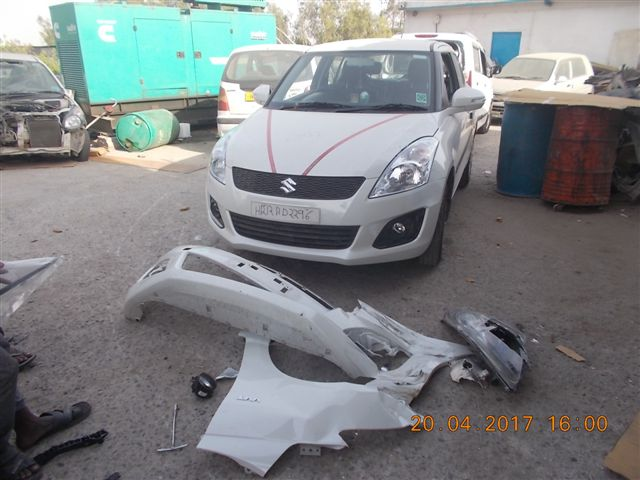Tear: (325, 229, 420, 332)
